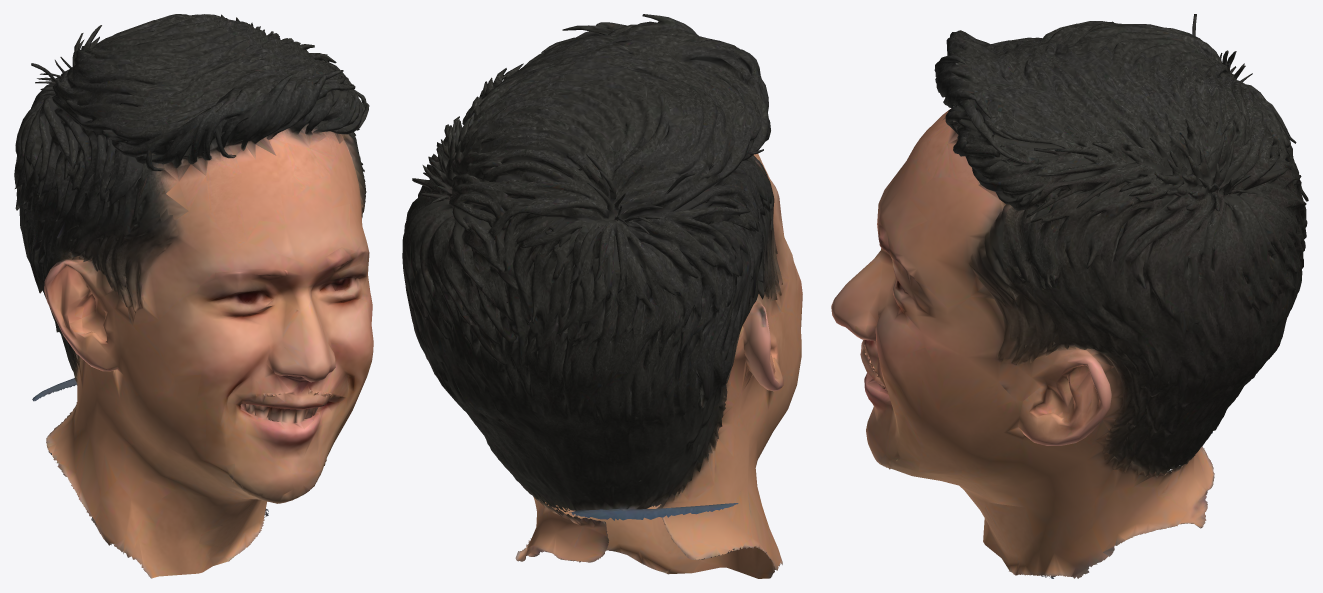
File: head_josh.glb
3 renders of one model, left to right at view 1: azimuth 30°, elevation 25°; view 2: azimuth 150°, elevation 25°; view 3: azimuth 270°, elevation 25°, orthographic. The views are drawn at different scales.
Parts seen in each view (by area): view 1: Mesh_0; view 2: Mesh_0; view 3: Mesh_0.
Boxes of the visible parts, x1=… form: Mesh_0: x1=14, y1=14, x2=373, y2=578; Mesh_0: x1=402, y1=14, x2=802, y2=578; Mesh_0: x1=831, y1=14, x2=1308, y2=578.
Bounding box in the file's own units: 0.7487 × 1.15 × 0.9344.
1 material, 1 textured.
